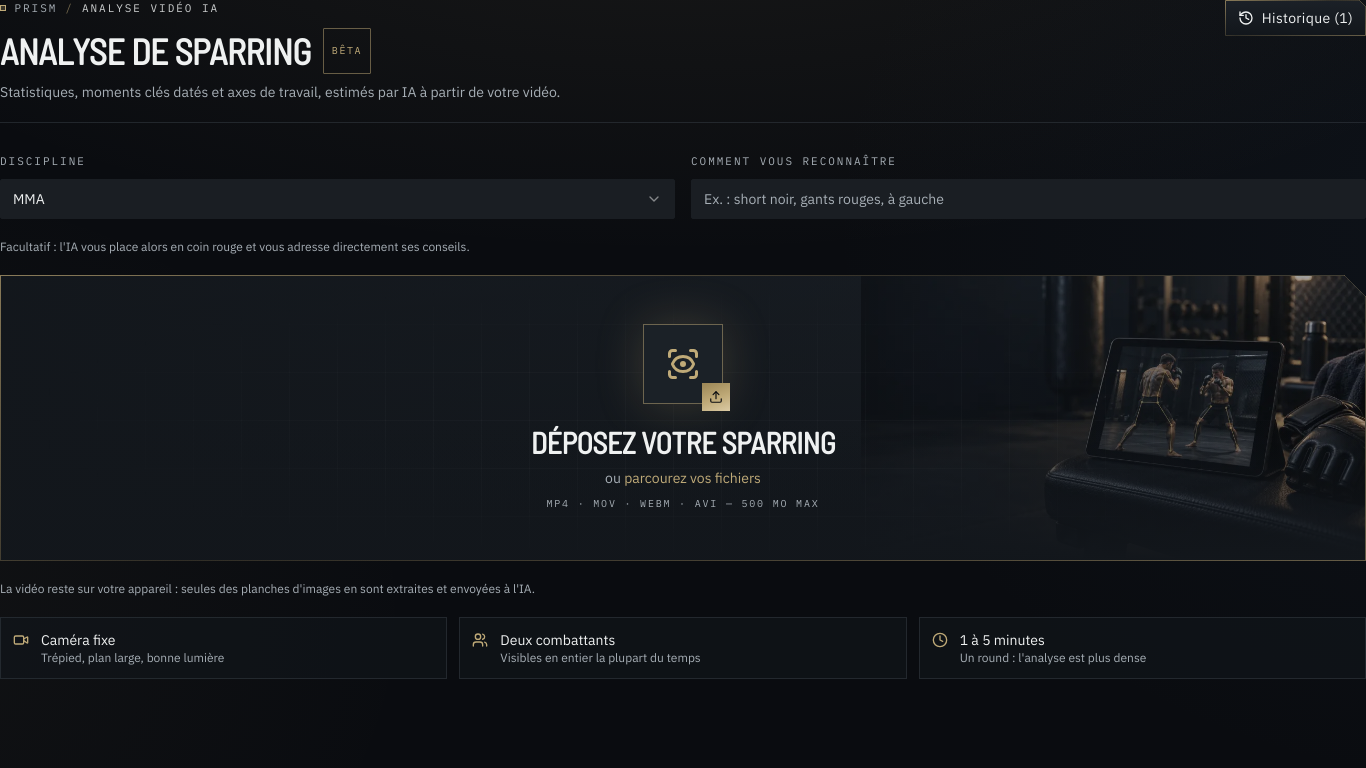
Test case: loads a completed analysis from history
Click the button "Historique (1)". click: (1295, 18)
box: [1225,0,1365,36]
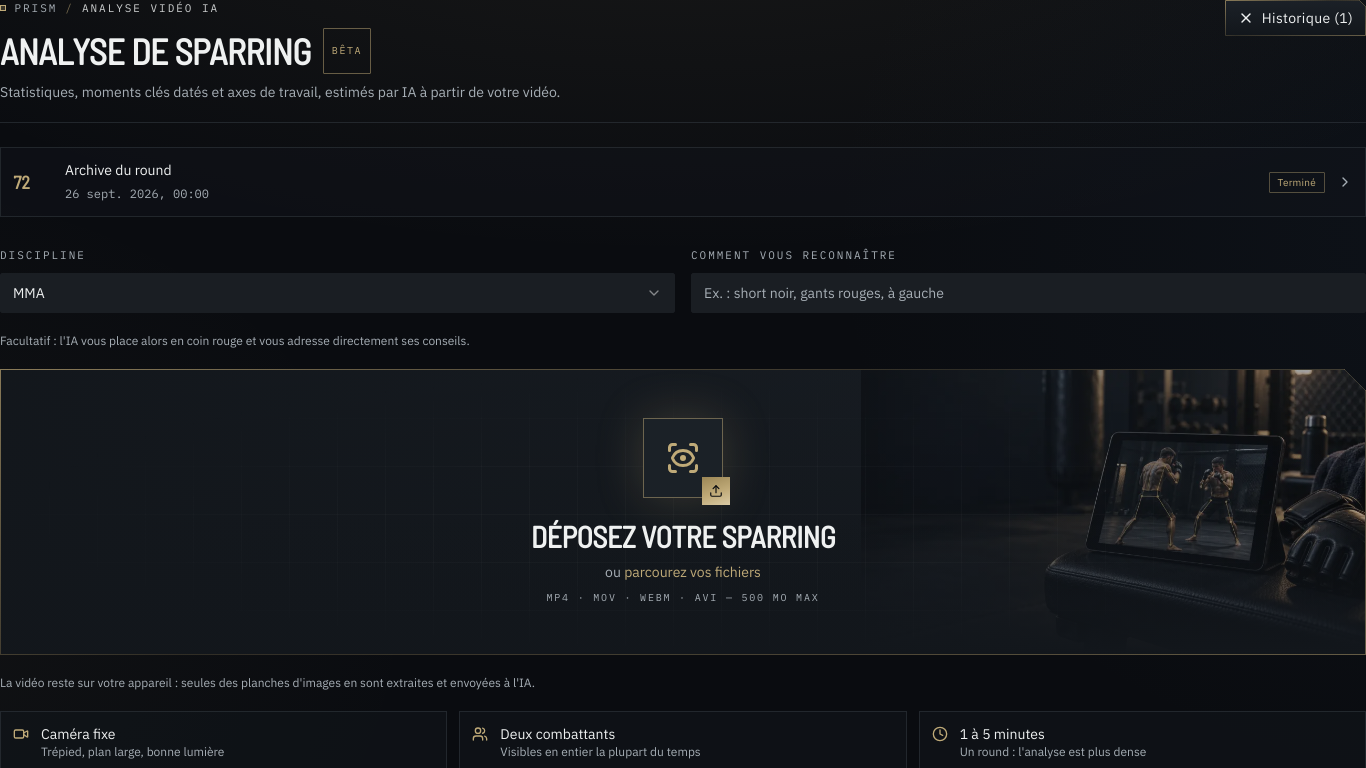
Click the button "72 Archive du round 26 sept. 2026, 00:00 Terminé". click: (118, 170)
box: [1,148,1365,216]
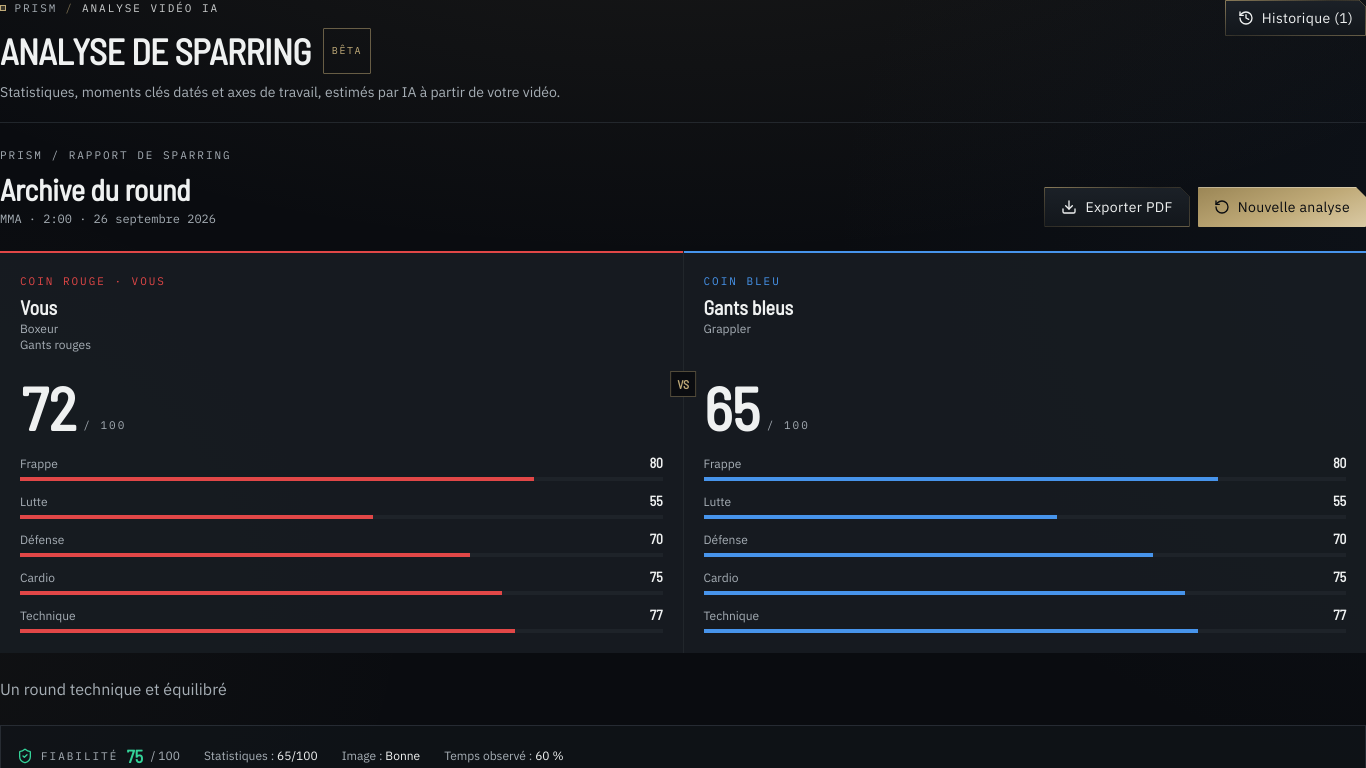
Expected: the text "Un round technique et équilibré" is shown, [0,679,227,699]
